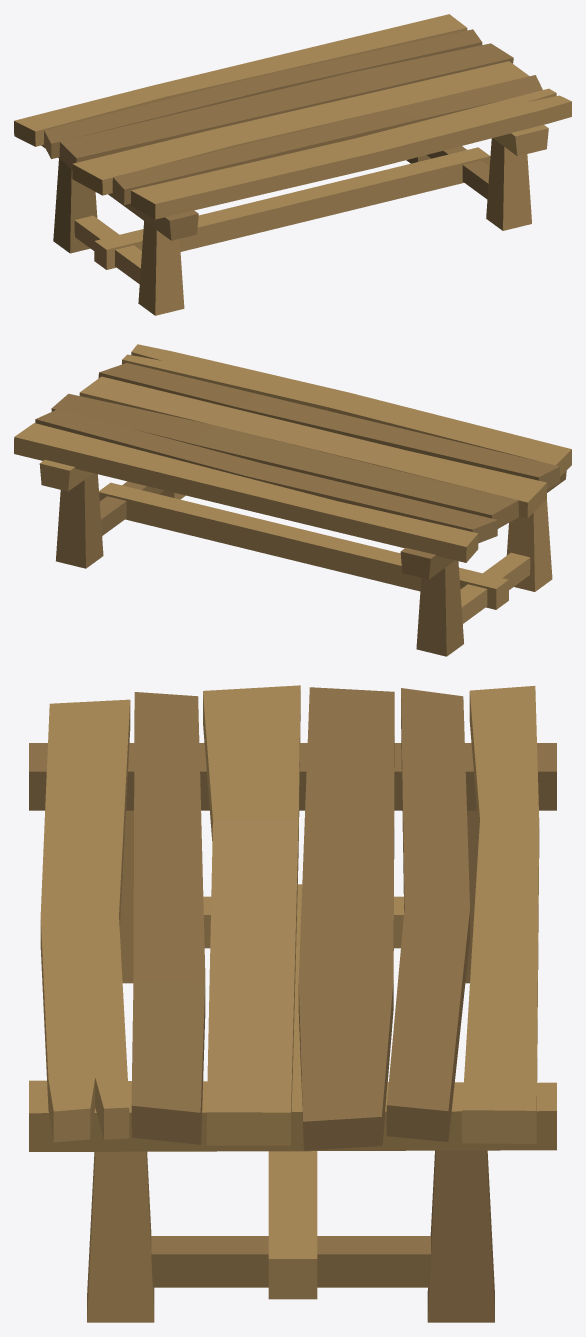
The model's file is Wooden_Table.gltf.
3 views of the same model, one above another, from view 1: azimuth 30°, elevation 25°; view 2: azimuth 150°, elevation 25°; view 3: azimuth 270°, elevation 25° (orthographic). The views are drawn at different scales.
Visible parts, largest first — view 1: Wooden_Table2; view 2: Wooden_Table2; view 3: Wooden_Table2.
Part boxes in pixels (x1,y1,x2,y2): Wooden_Table2: (14, 14, 571, 315); Wooden_Table2: (14, 344, 571, 656); Wooden_Table2: (29, 685, 556, 1322).
Size of the model in its own units: 0.7106 by 0.1881 by 0.3675.
Materials: 1 (1 with a texture image).
